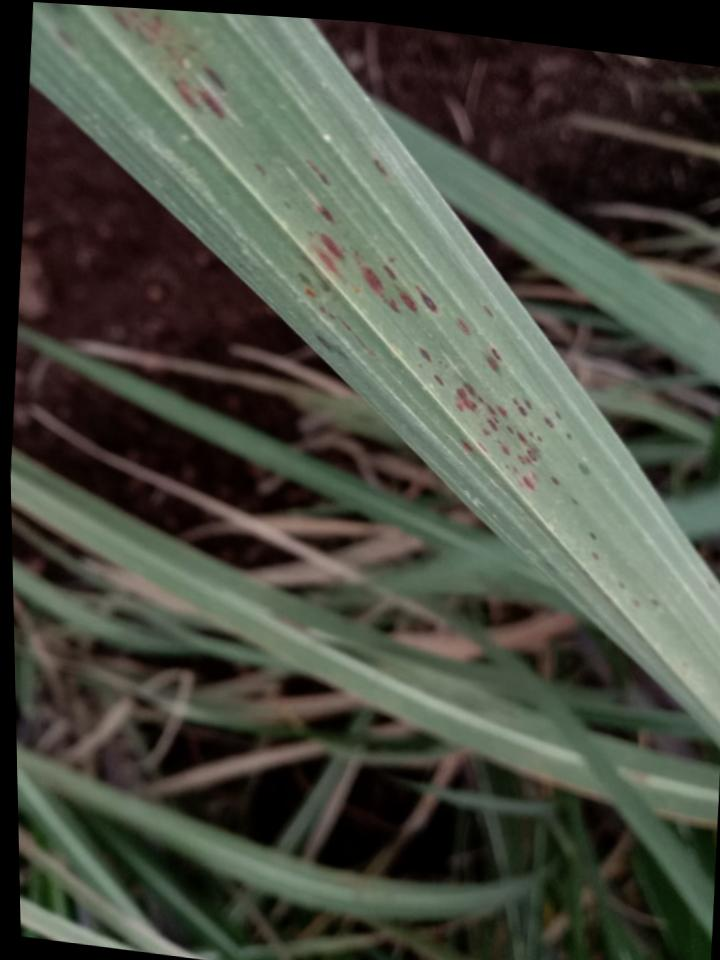Rust: (293, 151, 583, 498), (106, 6, 233, 124), (615, 578, 663, 613), (370, 153, 390, 178), (586, 530, 599, 563)
